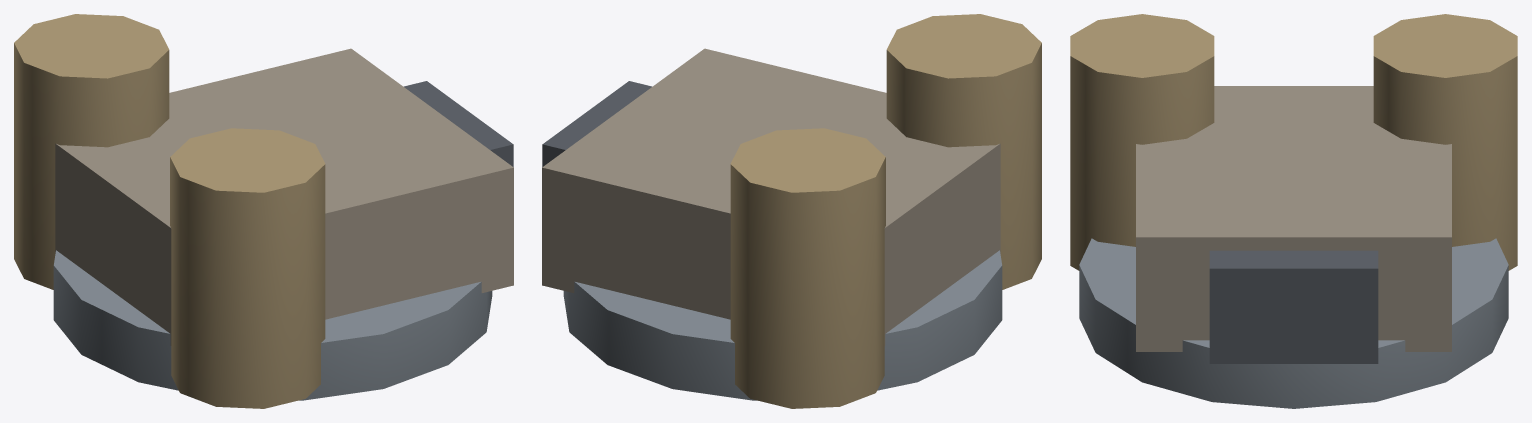
File: t_flamer.glb
The picture shows the model from 3 angles, left to right: view 1: azimuth 30°, elevation 25°; view 2: azimuth 150°, elevation 25°; view 3: azimuth 270°, elevation 25°; orthographic projection. The views are drawn at different scales.
Visible parts, largest first — view 1: t_flamer; view 2: t_flamer; view 3: t_flamer.
Boxes of the visible parts, <box> form: t_flamer: <box>14,14,513,408</box>; t_flamer: <box>542,14,1041,408</box>; t_flamer: <box>1070,14,1517,408</box>.
Size of the model in its own units: 2.07 by 1.17 by 2.12.
